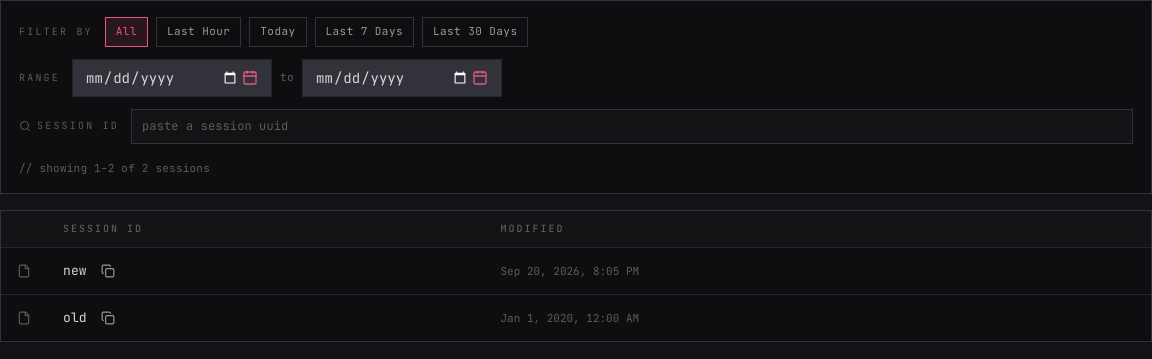
SessionsList › date preset filtering
What coordinates should you click on to do the following:
click the button "Last Hour"
I would click on:
 (199, 32)
Its box is [156,17,241,47].
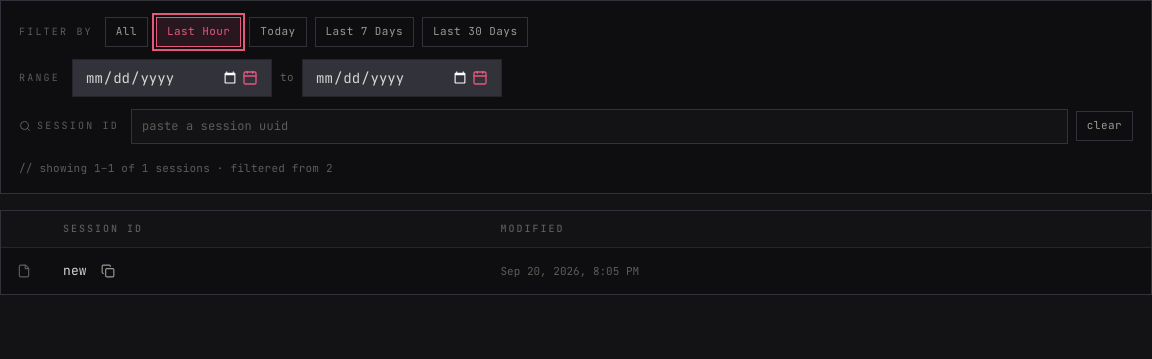
Expected: the text "// showing 1–1 of 1 sessions · filtered from 2" is shown, [19,161,333,175]
